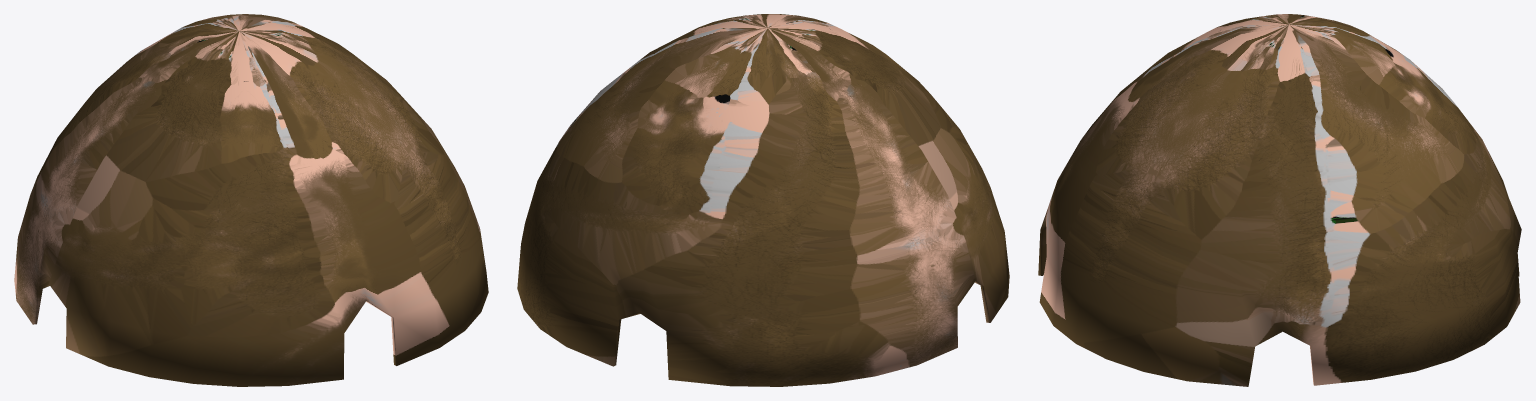
File: BeaverHouse.fbx
3 renders of one model, left to right at view 1: azimuth 30°, elevation 25°; view 2: azimuth 150°, elevation 25°; view 3: azimuth 270°, elevation 25°, orthographic. The views are drawn at different scales.
Parts seen in each view (by area): view 1: Sphere; view 2: Sphere; view 3: Sphere.
Boxes of the visible parts, box(x1,y1,x2,y2) form: Sphere: box(14, 14, 488, 386); Sphere: box(517, 14, 1009, 386); Sphere: box(1038, 14, 1521, 386).
Bounding box in the file's own units: 389 × 233 × 393.
